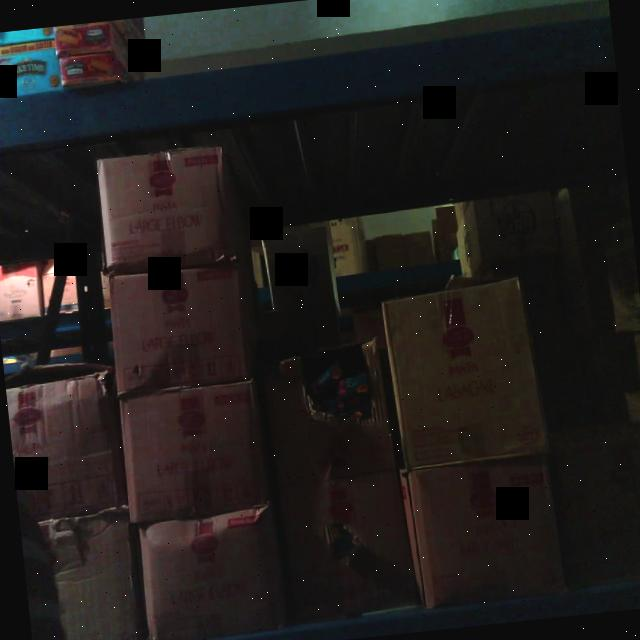box: (380, 282, 550, 469), (408, 449, 567, 604), (115, 377, 269, 524), (105, 255, 252, 390), (138, 505, 280, 640), (5, 368, 126, 526), (95, 140, 235, 275), (19, 507, 143, 640)
